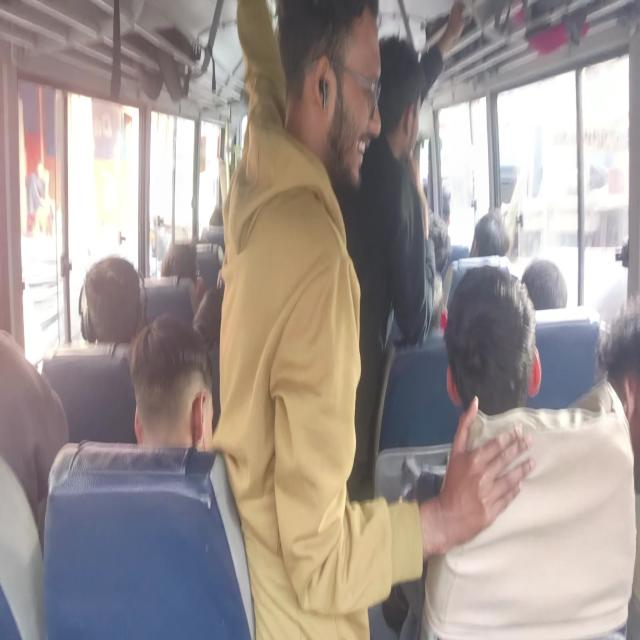person: (287, 2, 374, 186), (448, 272, 548, 420), (133, 333, 223, 470), (0, 363, 65, 496), (382, 46, 438, 167), (80, 264, 159, 332), (519, 262, 589, 331), (603, 316, 640, 429), (416, 201, 454, 290), (158, 237, 205, 297), (192, 288, 235, 350), (419, 157, 451, 227), (471, 211, 516, 257), (208, 202, 222, 224)
